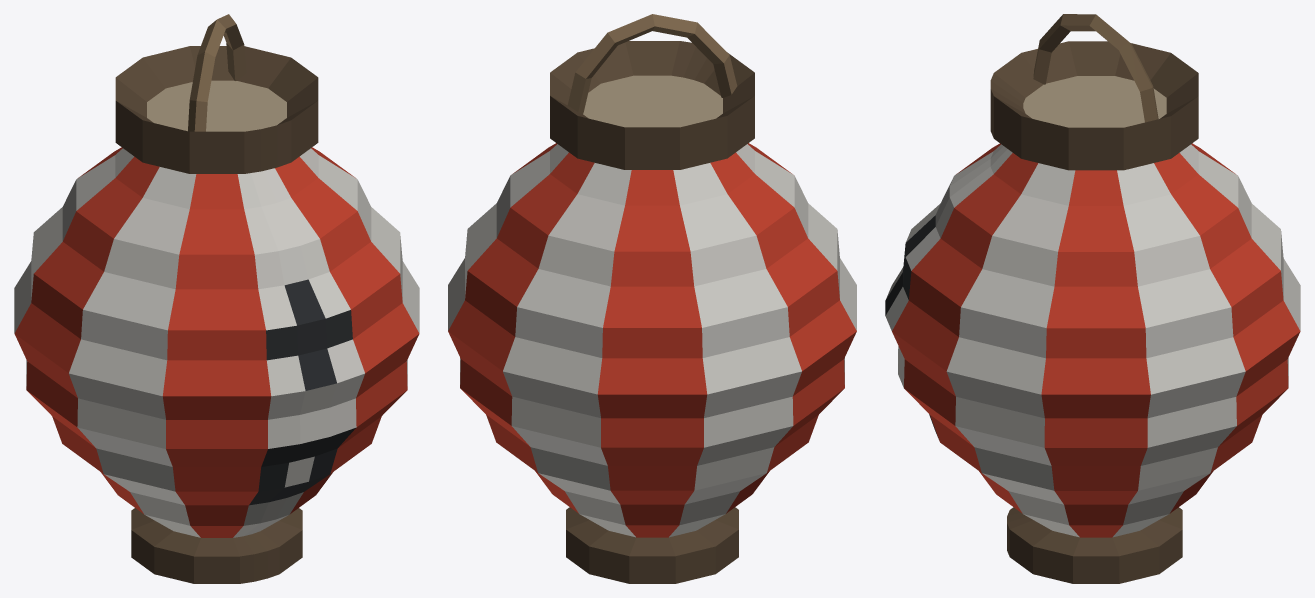
Rendered from paper-lantern-3387e9.glb.
3 renders of one model, left to right at view 1: azimuth 30°, elevation 25°; view 2: azimuth 150°, elevation 25°; view 3: azimuth 270°, elevation 25°, orthographic.
Visible parts, largest first — view 1: paper-lantern-mesh; view 2: paper-lantern-mesh; view 3: paper-lantern-mesh.
Part boxes in pixels (box(x1,y1,x2,y2)): paper-lantern-mesh: box(14, 14, 419, 583); paper-lantern-mesh: box(448, 14, 856, 583); paper-lantern-mesh: box(885, 14, 1300, 583).
Size of the model in its own units: 0.3471 by 0.4996 by 0.3526.
